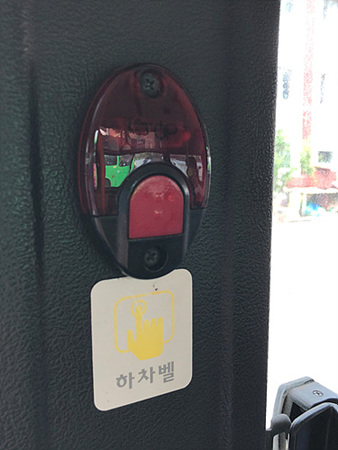bell: (74, 61, 210, 280)
